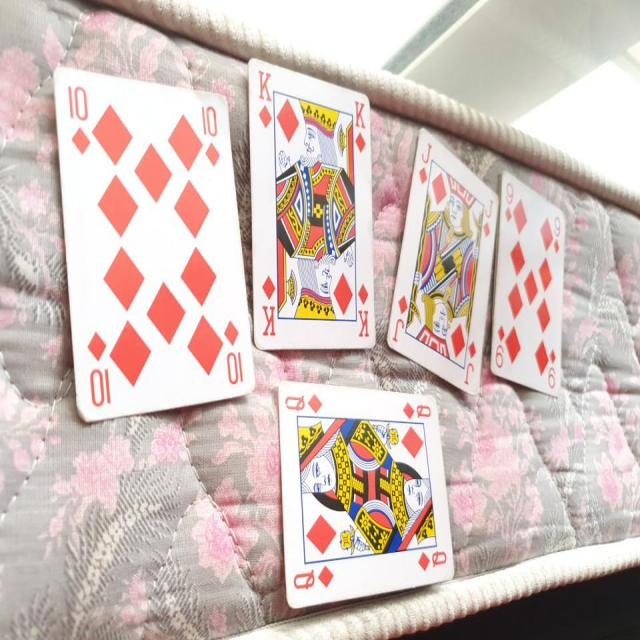10 Diamonds: (52, 59, 257, 428)
9 Diamonds: (488, 169, 566, 396)
J Diamonds: (386, 122, 499, 393)
K Diamonds: (246, 57, 377, 352)
Q Diamonds: (277, 375, 456, 610)
